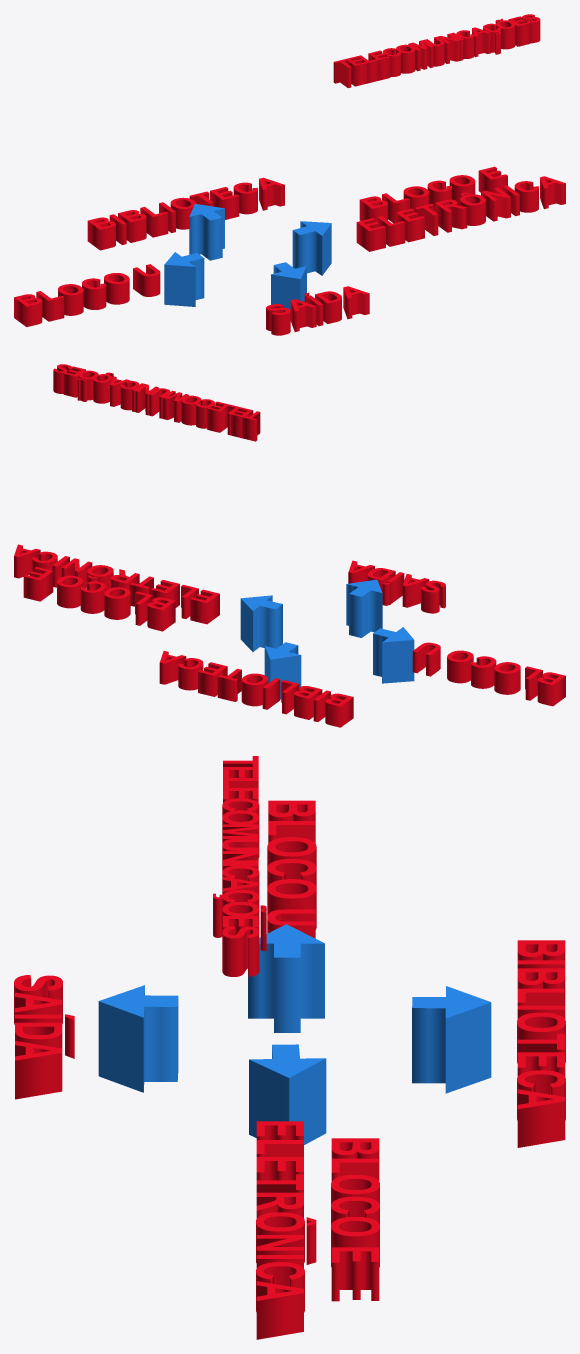
Rendered from Seta  biblioteca.glb.
3 renders of one model, top to bottom at view 1: azimuth 30°, elevation 25°; view 2: azimuth 150°, elevation 25°; view 3: azimuth 270°, elevation 25°, orthographic. The views are drawn at different scales.
Parts seen in each view (by area): view 1: Text.004, Text.005, Text, Text.002, Text.003, Text.001, Curve.002, Curve.003, Curve.004, Curve.001; view 2: Text.005, Text, Text.004, Text.003, Text.002, Text.001, Curve.003, Curve.002, Curve.001, Curve.004; view 3: Text.004, Text, Text.005, Text.003, Curve.001, Curve.004, Curve.002, Text.002, Text.001, Curve.003.
Boxes of the visible parts, <box> form: Text.004: <box>356,176,565,251</box>; Text.005: <box>333,14,540,88</box>; Text: <box>87,177,284,250</box>; Text.002: <box>14,264,160,326</box>; Text.003: <box>359,166,507,223</box>; Text.001: <box>266,286,369,335</box>; Curve.002: <box>164,252,204,306</box>; Curve.003: <box>292,221,331,275</box>; Curve.004: <box>189,203,224,260</box>; Curve.001: <box>271,262,306,309</box>; Text.005: <box>53,364,260,441</box>; Text: <box>159,651,353,727</box>; Text.004: <box>14,544,219,624</box>; Text.003: <box>23,567,175,631</box>; Text.002: <box>412,642,565,706</box>; Text.001: <box>348,560,445,613</box>; Curve.003: <box>240,595,282,651</box>; Curve.002: <box>373,627,414,683</box>; Curve.001: <box>346,579,382,637</box>; Curve.004: <box>264,642,301,699</box>; Text.004: <box>256,1121,316,1339</box>; Text: <box>517,940,565,1147</box>; Text.005: <box>213,756,266,976</box>; Text.003: <box>331,1138,379,1301</box>; Curve.001: <box>98,985,178,1092</box>; Curve.004: <box>412,986,491,1093</box>; Curve.002: <box>248,924,324,1032</box>; Text.002: <box>267,800,316,938</box>; Text.001: <box>14,975,74,1099</box>; Curve.003: <box>249,1044,326,1144</box>.
Size of the model in its own units: 4.89 by 1.82 by 2.33.
